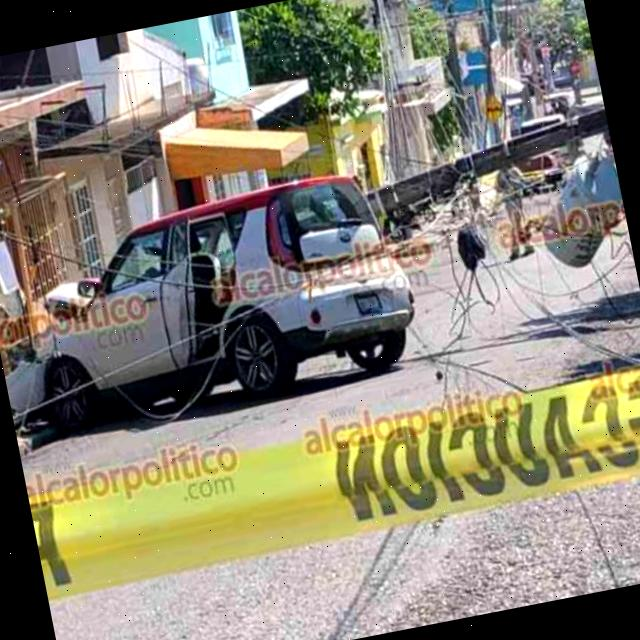Broken Pole: (369, 88, 625, 272)
